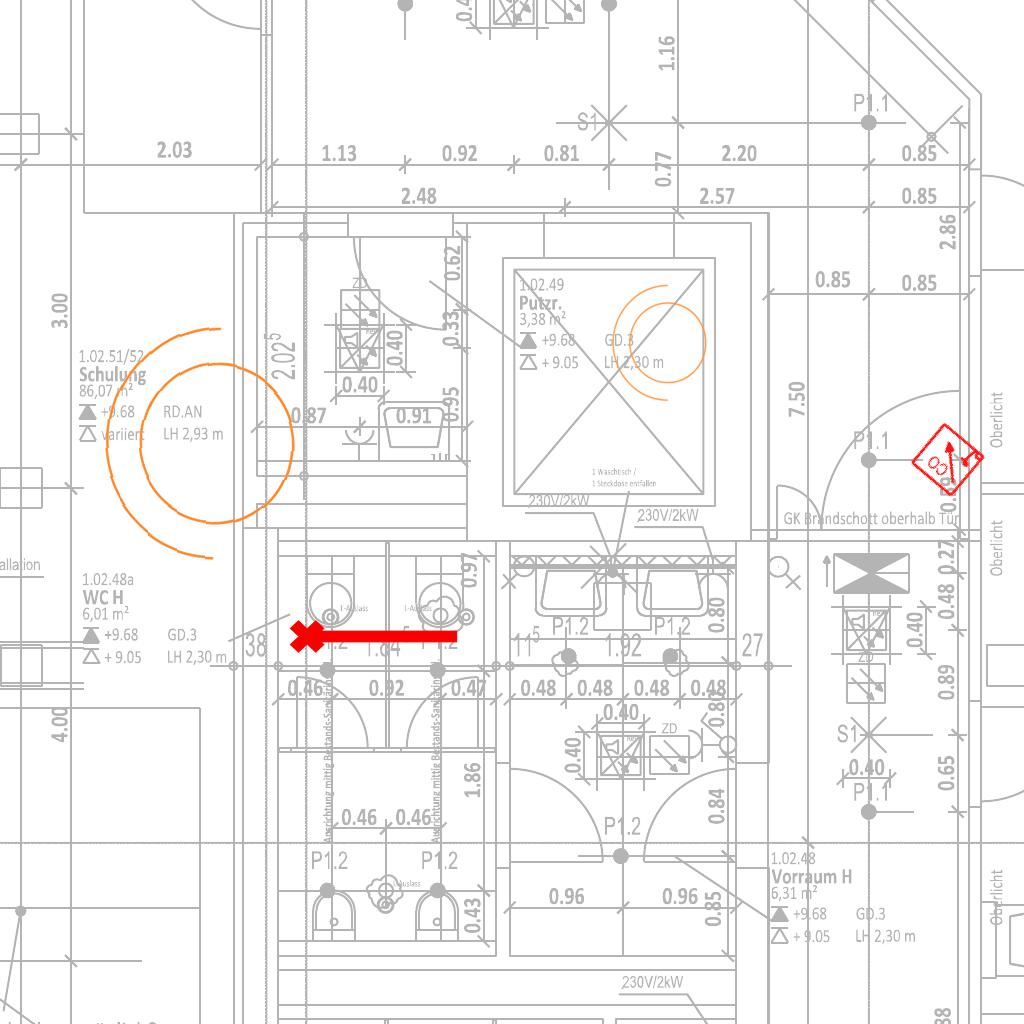ASR_Ansaugoeffnung: (287, 611, 463, 657)
ROA_Rauchmelder_optisch_mit_Signalgeber_(Sockelsirene): (908, 419, 988, 499)
Scheinwerfer_fuer_Alarmbeleuchtung: (89, 313, 325, 586), (607, 280, 719, 412)
